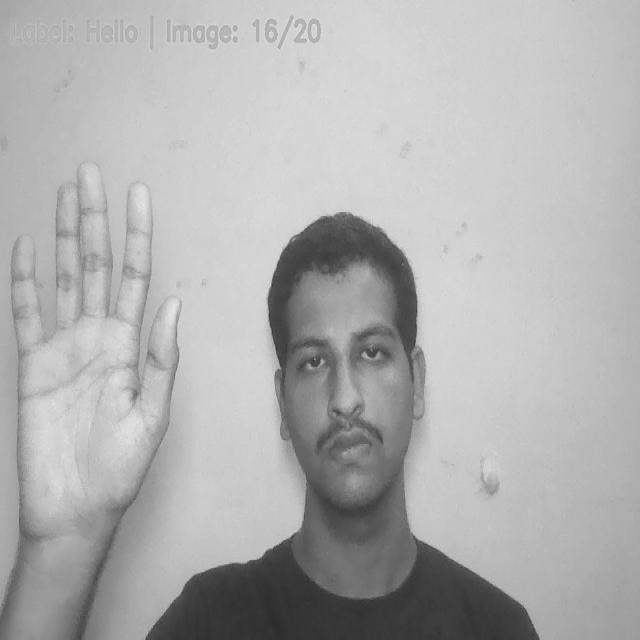Hello: (15, 164, 173, 536)
